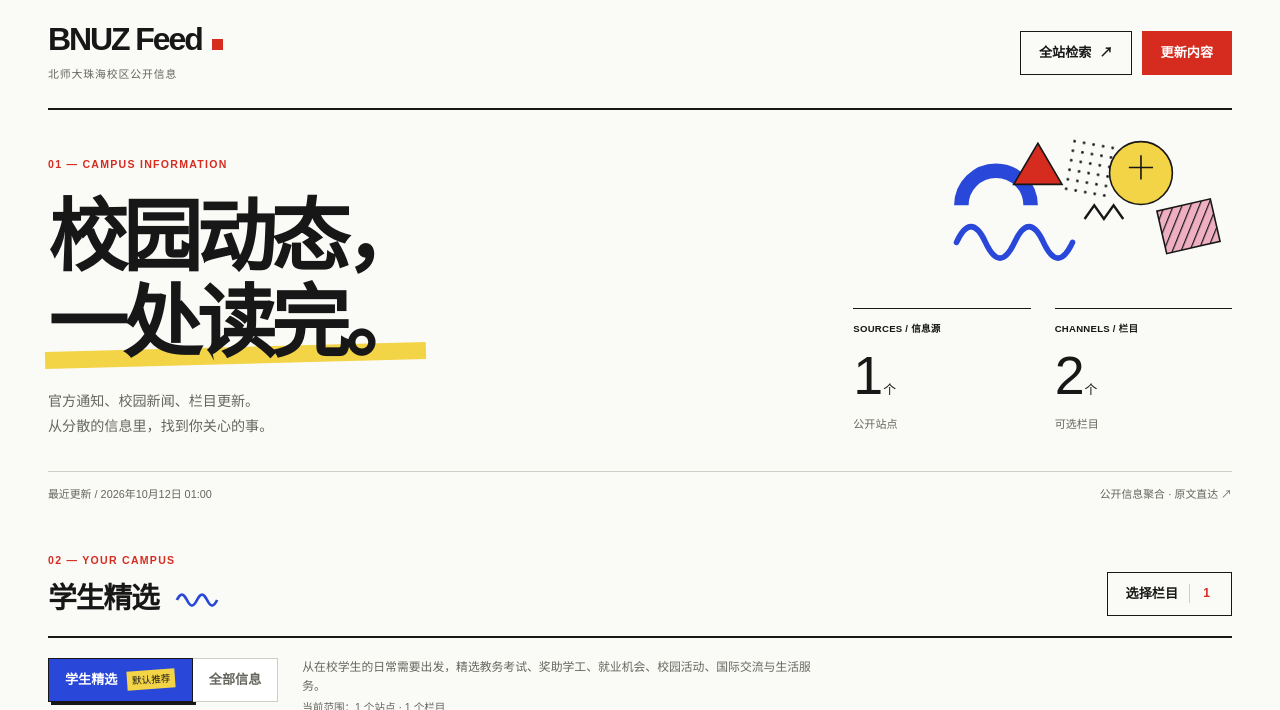
App reading and filtering › defaults to student channels and lets readers switch to all information
Expected: the heading "学生精选" is shown, [48, 581, 219, 616]
Click the button "全部信息" at {"x": 236, "y": 680}, box [193, 658, 278, 702]
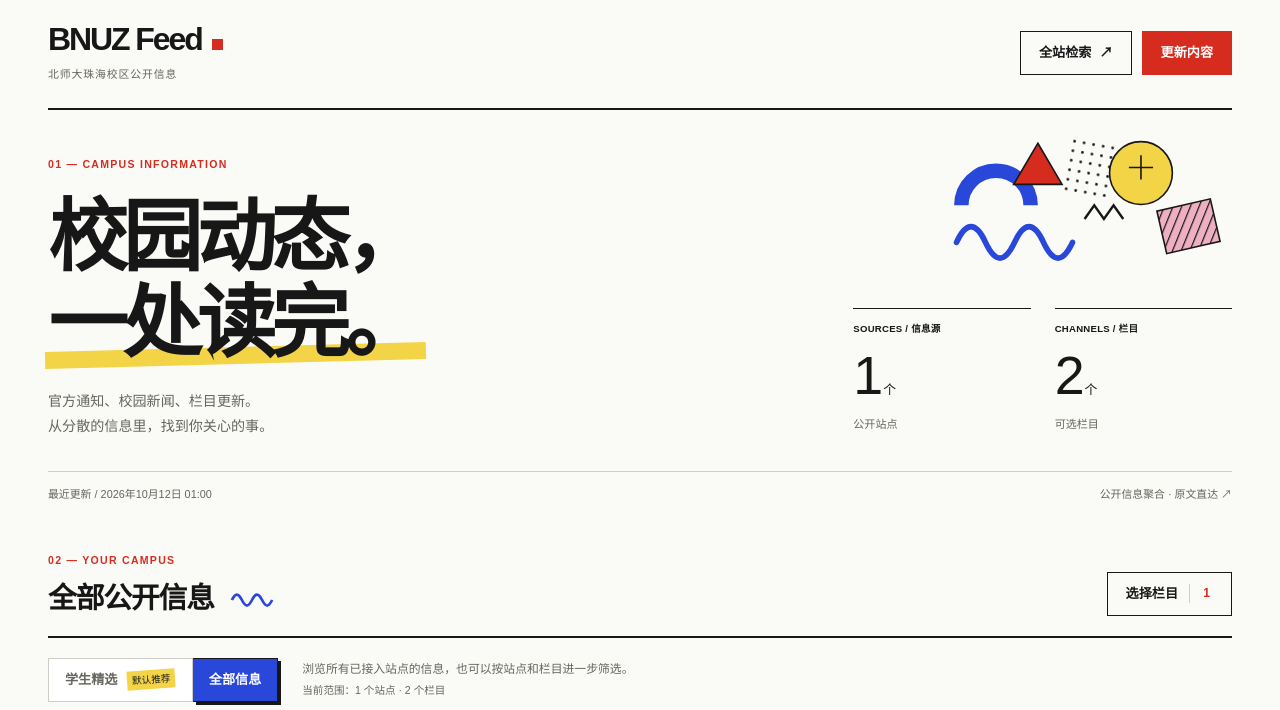
Result: the heading "全部公开信息" is shown at [48, 581, 274, 616]
Click the button "学生精选 默认推荐" at {"x": 120, "y": 680}, box [48, 658, 193, 702]
(page scrolled)
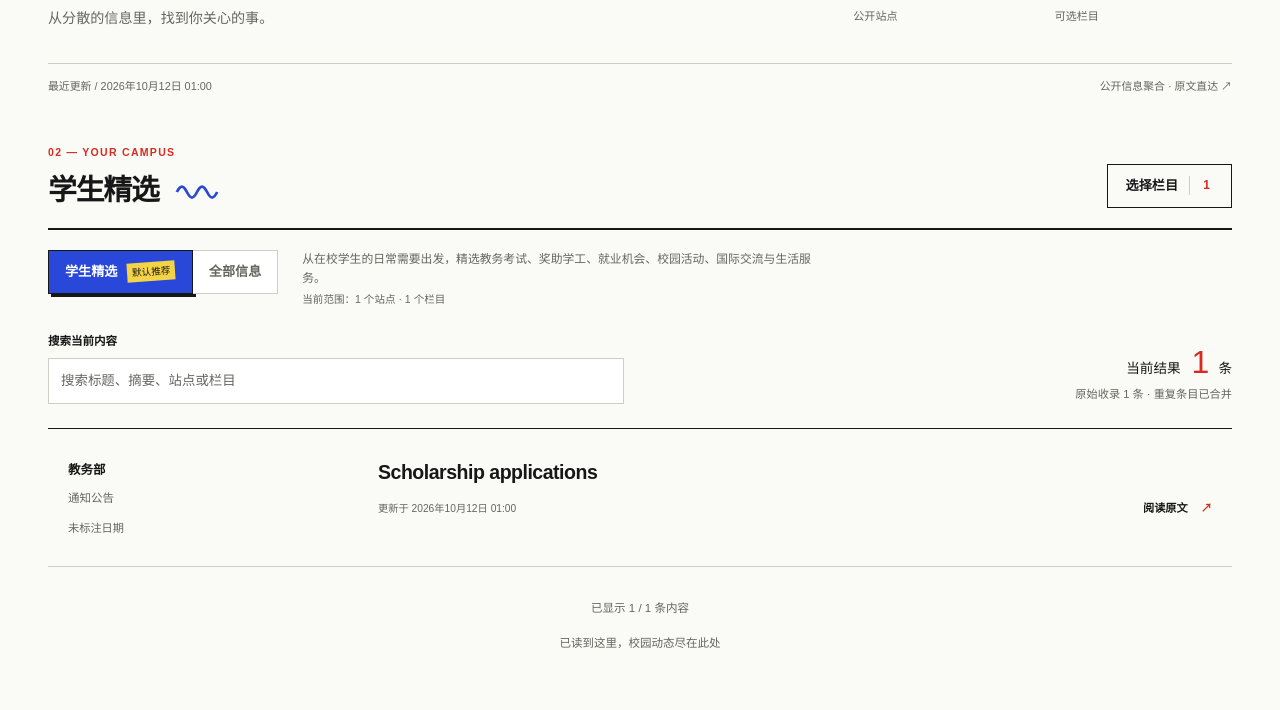
Result: the element with class "content__count" reads "当前结果 1 条" at [1126, 345, 1232, 380]
